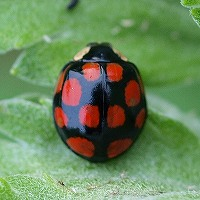Rash: (51, 41, 147, 163)
